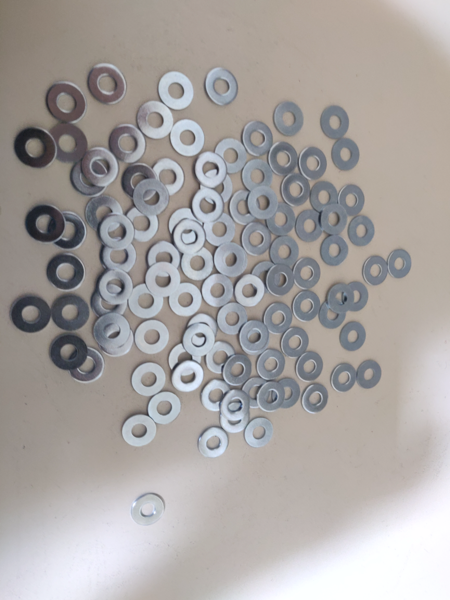circle: (14, 128, 57, 167), (87, 64, 127, 105), (47, 83, 87, 123), (25, 204, 66, 243), (48, 124, 88, 163), (81, 147, 119, 187), (109, 124, 147, 164), (48, 212, 87, 250), (11, 296, 51, 333), (158, 70, 194, 111), (136, 101, 173, 140), (71, 159, 108, 198), (47, 255, 86, 291), (52, 295, 89, 331), (93, 313, 130, 349), (123, 164, 159, 201), (99, 213, 135, 250), (86, 196, 123, 232), (134, 178, 169, 216), (67, 347, 103, 383), (100, 239, 136, 275), (50, 335, 87, 370), (170, 120, 205, 157), (168, 208, 205, 243), (128, 283, 163, 319), (206, 68, 239, 106), (152, 158, 185, 196), (134, 320, 169, 355), (98, 270, 133, 305), (191, 188, 226, 223), (131, 363, 167, 397), (193, 152, 227, 188), (91, 284, 127, 318), (145, 263, 180, 297), (125, 207, 159, 242), (100, 322, 133, 358), (214, 243, 248, 277), (203, 212, 236, 247), (213, 139, 246, 174), (148, 242, 180, 278), (122, 415, 157, 447), (148, 392, 181, 425), (168, 284, 201, 317), (181, 248, 214, 281), (182, 324, 216, 356), (168, 344, 202, 376), (229, 191, 261, 225), (274, 101, 304, 137), (132, 494, 165, 526), (202, 275, 234, 308), (247, 187, 279, 220), (243, 122, 274, 156), (173, 361, 205, 393), (234, 275, 266, 307), (187, 314, 218, 347), (205, 342, 236, 374), (295, 209, 325, 242), (320, 106, 350, 139), (241, 223, 271, 256), (198, 427, 229, 458), (281, 174, 311, 206), (263, 303, 293, 335), (244, 417, 274, 448), (221, 390, 251, 421), (222, 355, 252, 386), (221, 403, 251, 434), (218, 304, 248, 335), (200, 381, 231, 411), (243, 160, 272, 192), (299, 147, 327, 180), (270, 142, 298, 175), (257, 350, 286, 381), (257, 382, 286, 413), (266, 265, 295, 296), (252, 262, 281, 293), (311, 182, 340, 213), (293, 258, 321, 290), (320, 203, 348, 235), (332, 138, 360, 170), (267, 204, 295, 236), (241, 325, 270, 355), (281, 327, 309, 358), (242, 378, 270, 409), (341, 281, 369, 312), (293, 291, 321, 322), (240, 322, 269, 351), (270, 236, 299, 265), (272, 379, 300, 409), (320, 236, 348, 266), (327, 283, 354, 314), (339, 185, 365, 217), (340, 322, 367, 352), (320, 300, 347, 330), (348, 216, 375, 246), (302, 383, 328, 414), (331, 363, 357, 393), (363, 257, 389, 286), (297, 353, 323, 382), (357, 361, 382, 389), (389, 249, 412, 279)
